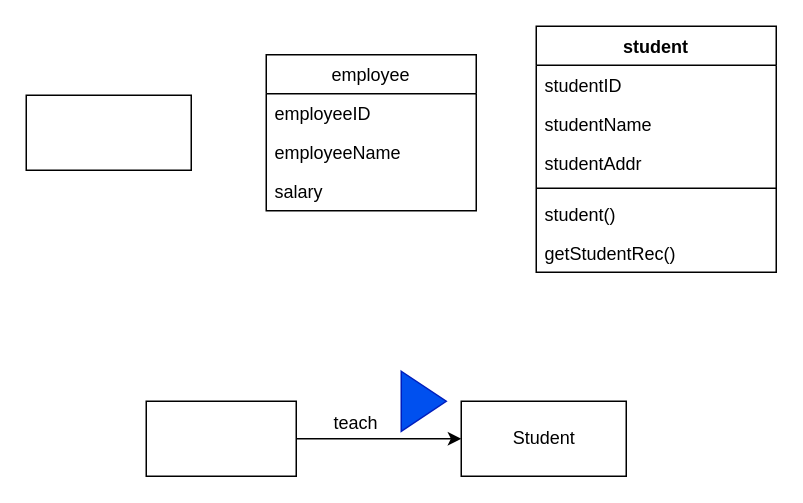
Some shapes in this 803 by 503 pixel diagram are drawn without their labels. The shapes that lost their labels are listed below. From the top down, each one's centre as x and y in pixels, then its label:
At point 108,132: "customer".
At point 220,438: "Teacher".
